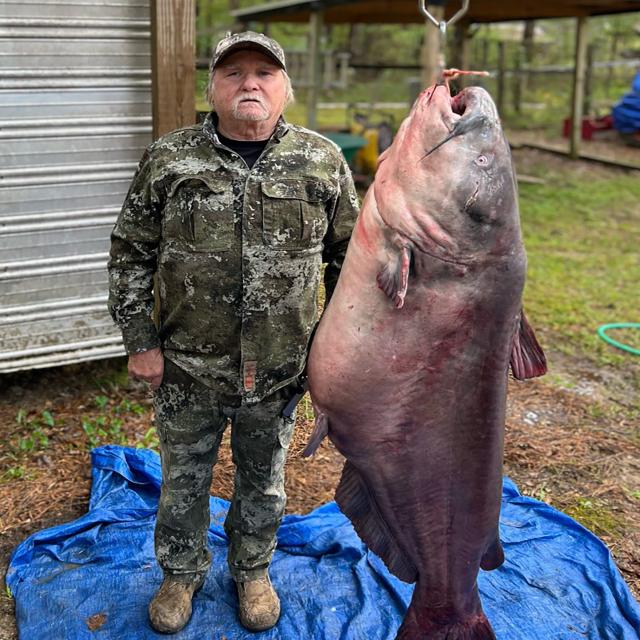Catfish - Blue: (307, 85, 545, 639)
